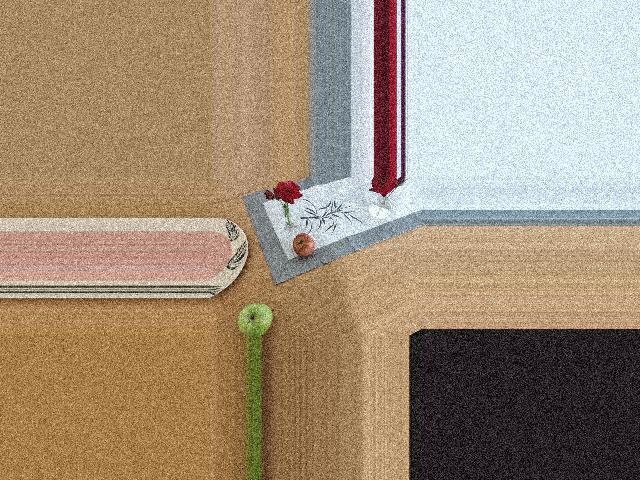apple: (235, 301, 274, 336)
